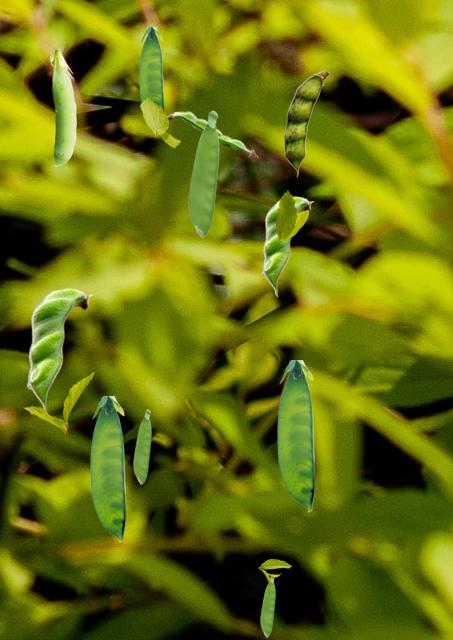pea: (26, 288, 92, 412), (277, 360, 313, 511), (261, 196, 313, 296), (90, 396, 124, 541), (284, 70, 328, 176), (168, 111, 257, 156), (188, 110, 218, 236), (47, 46, 75, 165), (139, 27, 162, 107), (133, 409, 150, 483), (260, 576, 274, 636)
